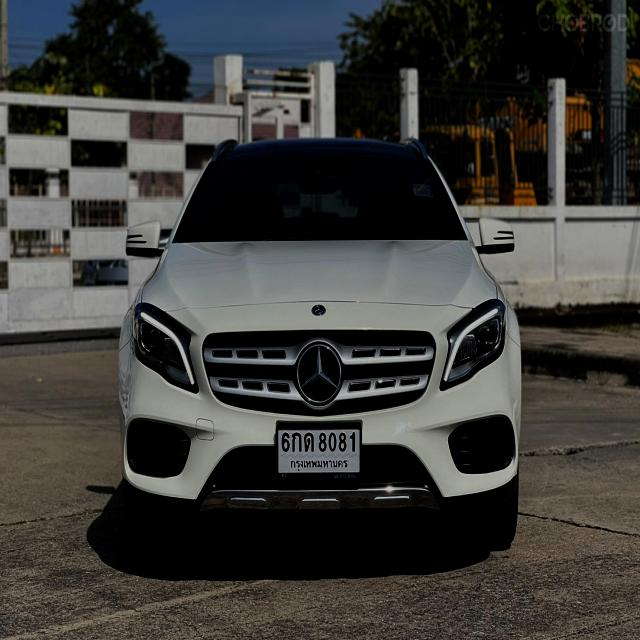license_plate: (272, 418, 363, 481)
